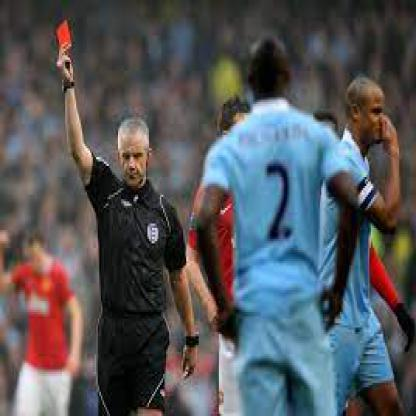foul: (38, 8, 99, 187)
